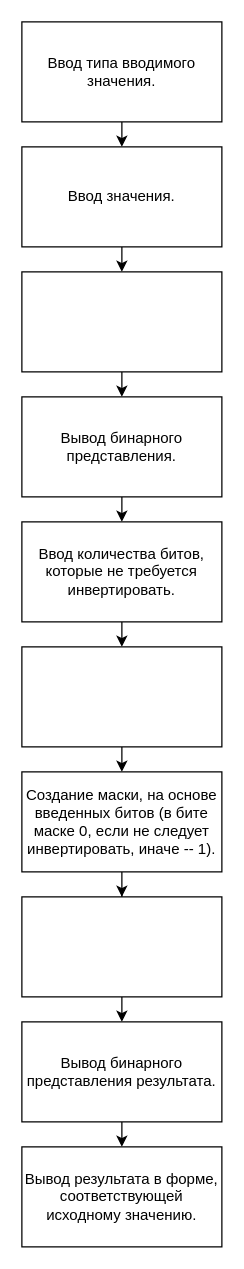
Some shapes in this 244 by 1269 pixel diagram are drawn without their labels. The centre of each missing label's shape, as x and y in pixels:
"Ввод номеров битов, которые не требуется инвертировать." goes at (x=121, y=696).
"Получение бинарного представления значения." goes at (x=121, y=321).
"Применение XOR к введенному значению и маске." goes at (x=121, y=946).
